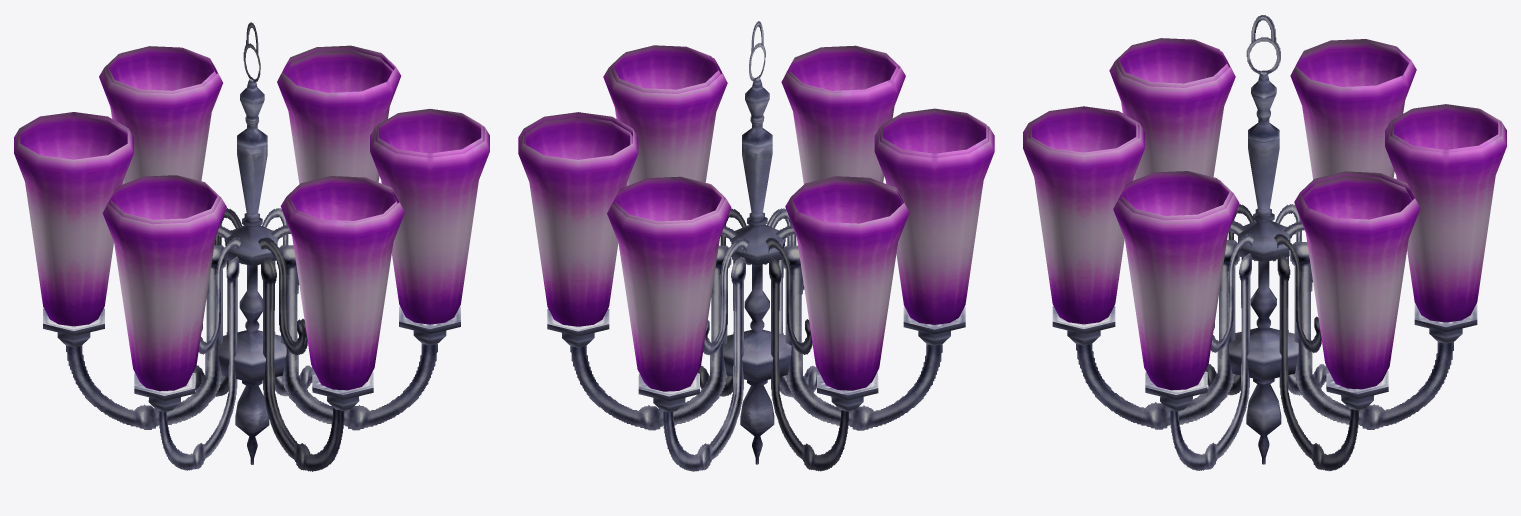
The model's file is furni_0201102_01.FBX.
3 renders of one model, left to right at view 1: azimuth 30°, elevation 25°; view 2: azimuth 150°, elevation 25°; view 3: azimuth 270°, elevation 25°, orthographic.
Visible parts, largest first — view 1: furni_0201102_01; view 2: furni_0201102_01; view 3: furni_0201102_01.
Boxes of the visible parts, bbox=[...] form: furni_0201102_01: bbox=[14, 22, 489, 471]; furni_0201102_01: bbox=[518, 21, 994, 471]; furni_0201102_01: bbox=[1023, 15, 1506, 470].
Bounding box in the file's own units: 71.93 × 81.01 × 78.96.
1 material, 1 textured.
